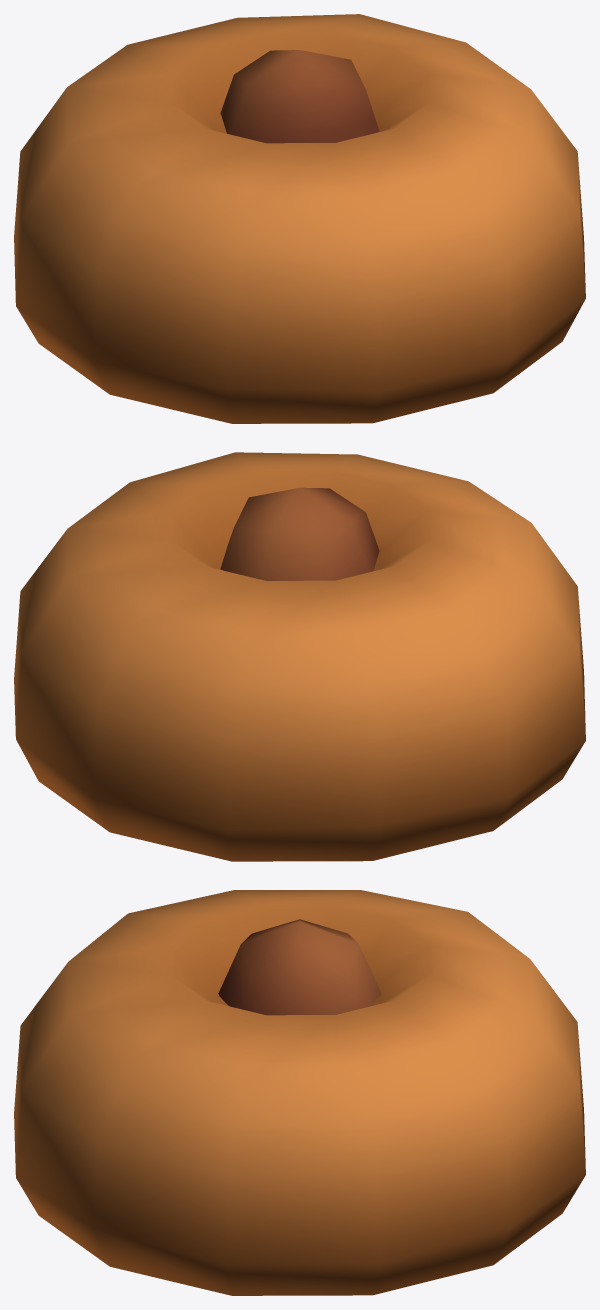
The model's file is m_Sekerpare01.fbx.
3 views of the same model, one above another, from view 1: azimuth 30°, elevation 25°; view 2: azimuth 150°, elevation 25°; view 3: azimuth 270°, elevation 25° (orthographic).
Visible parts, largest first — view 1: m_Sekerpare01; view 2: m_Sekerpare01; view 3: m_Sekerpare01.
Part boxes in pixels (x1,y1,x2,y2): m_Sekerpare01: (14, 14, 585, 423); m_Sekerpare01: (14, 452, 585, 861); m_Sekerpare01: (14, 890, 585, 1295).
Size of the model in its own units: 6.85 by 3.48 by 6.85.
